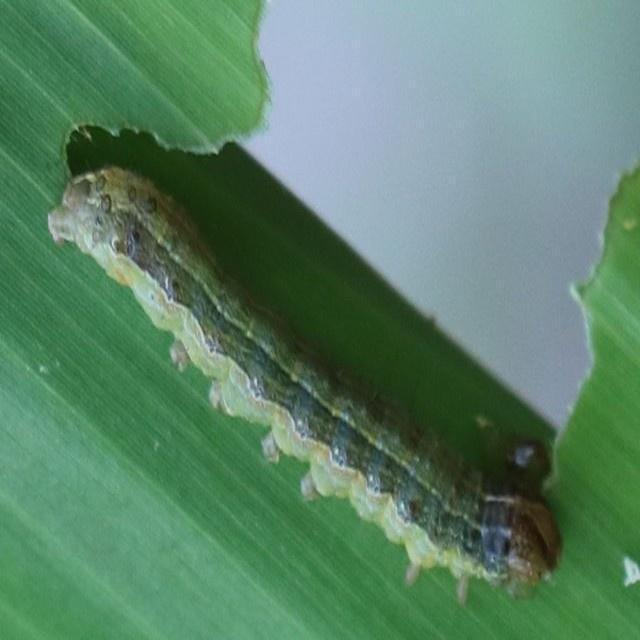gusano_cogollero: (42, 162, 566, 594)
